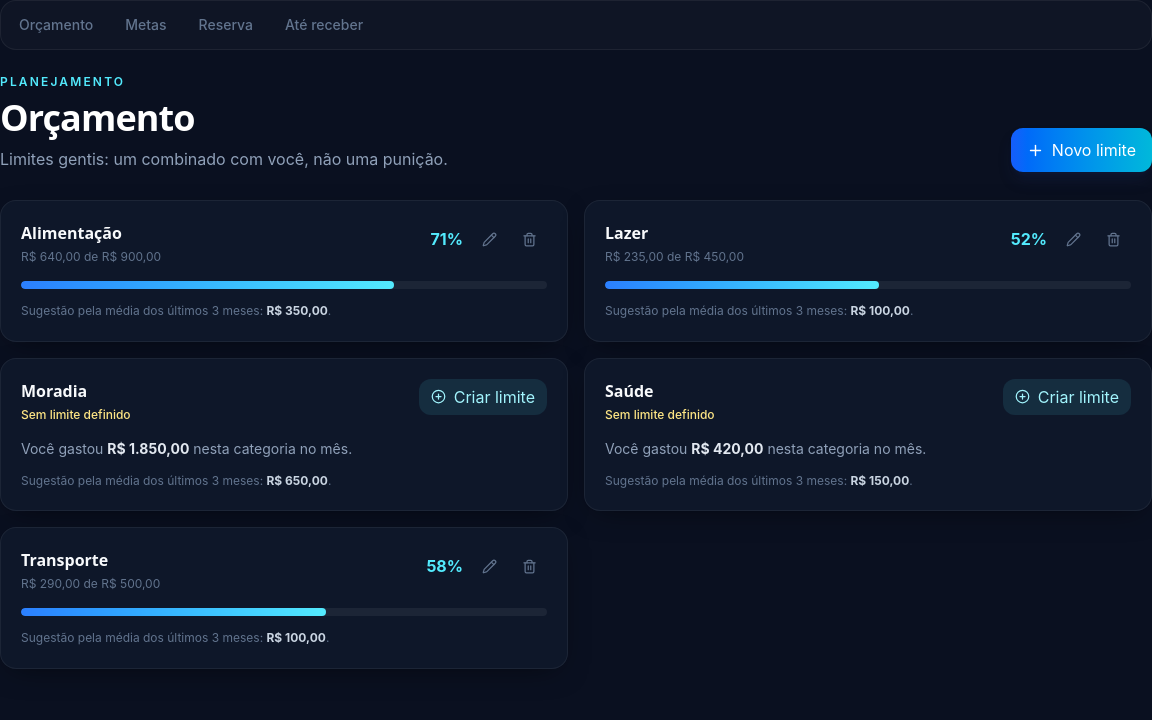
Test: edits and deletes an existing budget
Step 1. Click the button named "editar alimentação" → (489, 239), box [471,221,507,257]
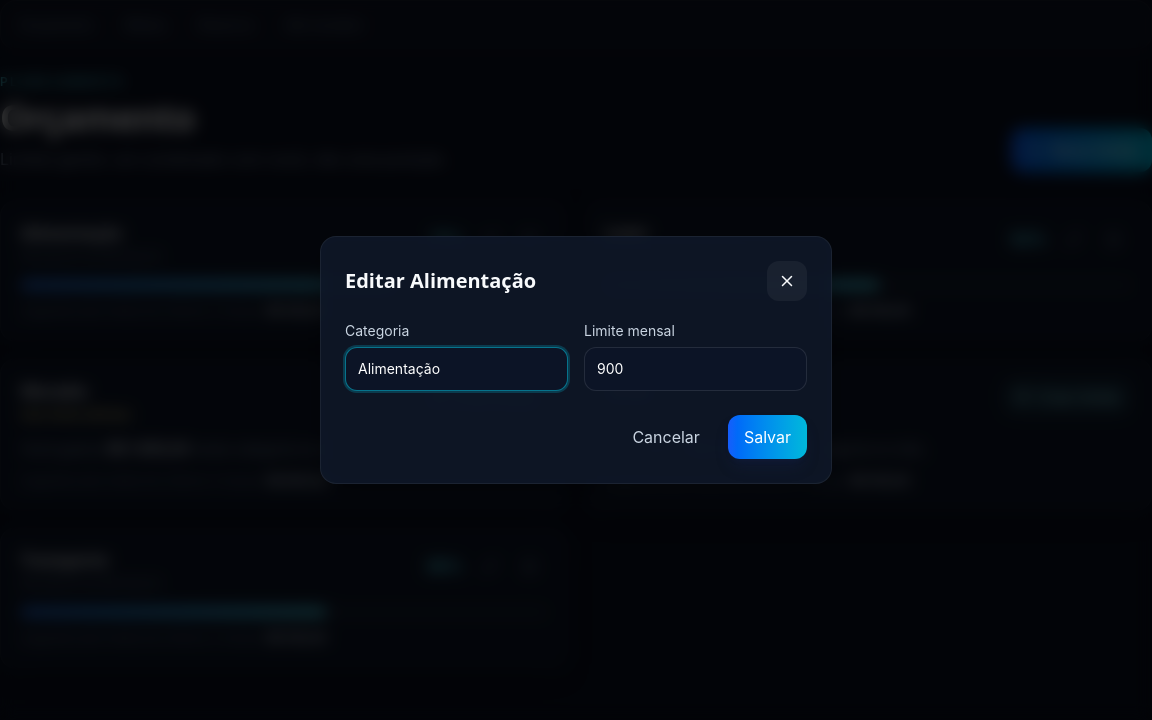
Step 2. Replace the text in the number field labelled "Limite mensal" with "1000" → (696, 369), box [584,347,807,391]
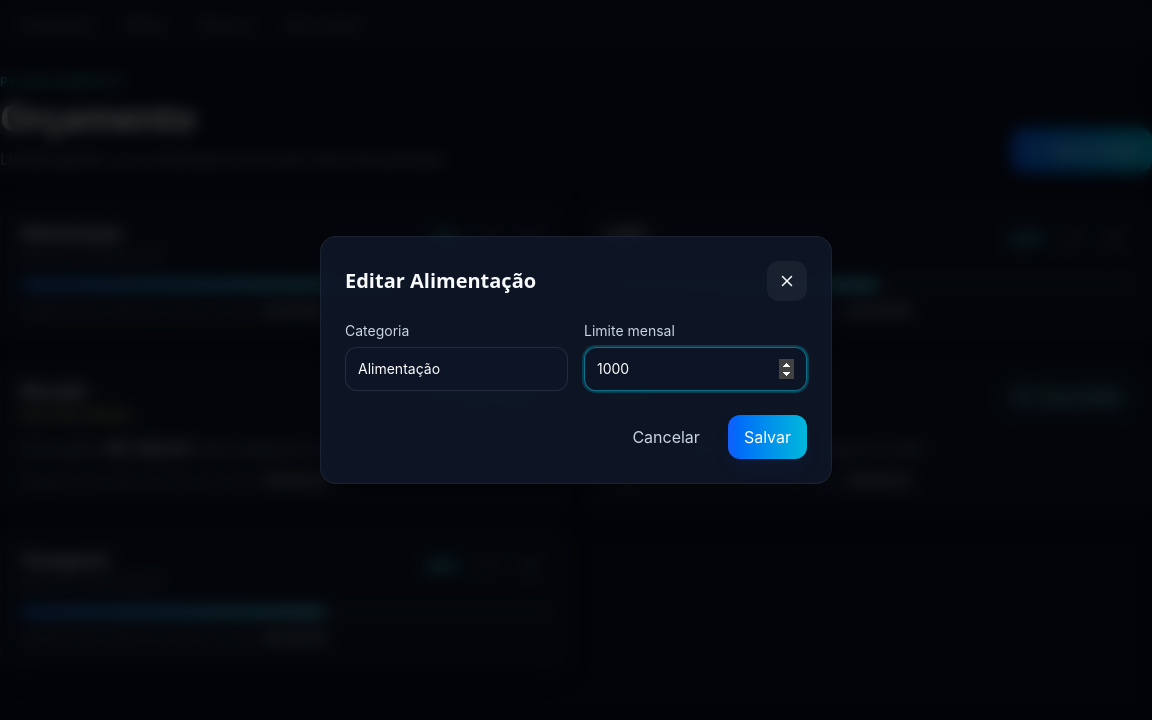
Step 3. Click the button "Salvar" → (767, 437), box [728,415,807,459]
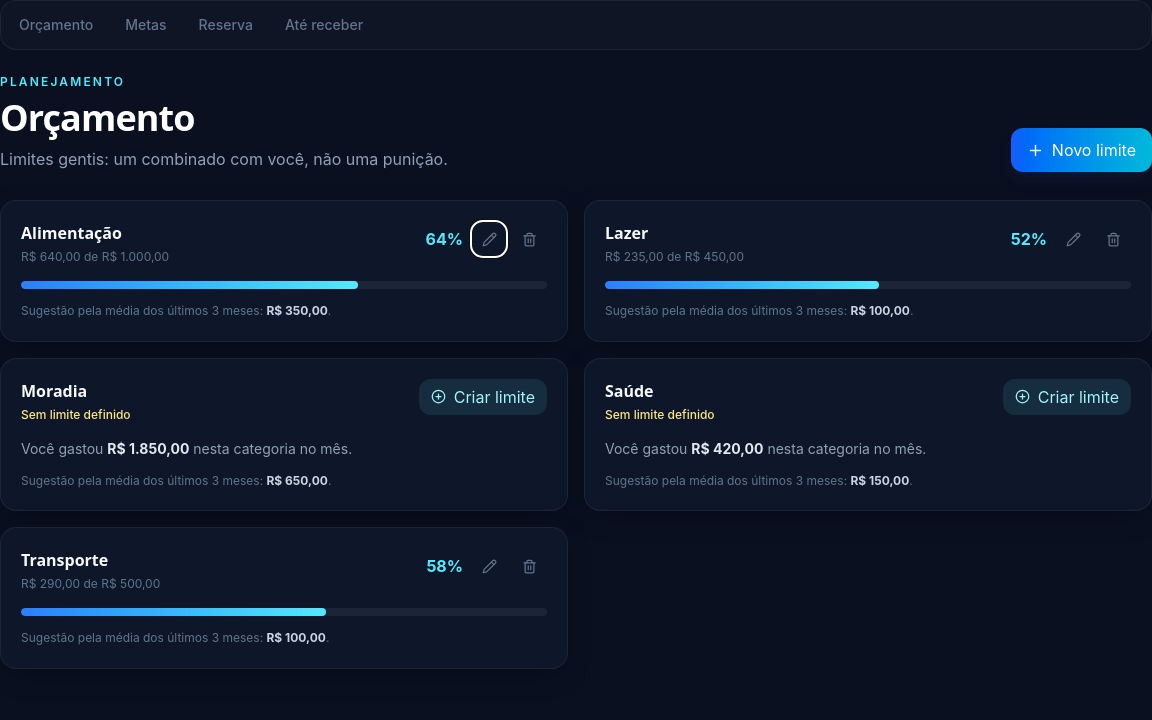
Result: the text "R$ 640,00 de R$ 1.000,00" is shown at [21,249,169,265]
Step 4. Click the button named "excluir alimentação" → (529, 239), box [511,221,547,257]
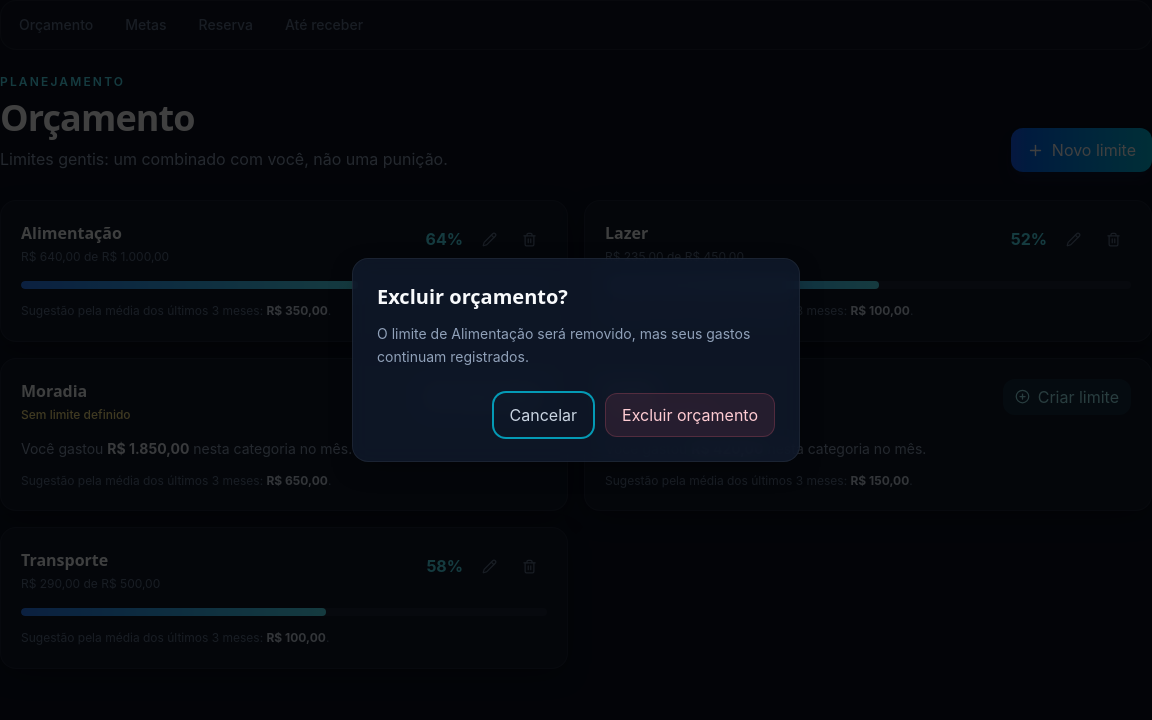
Result: the dialog "Excluir orçamento?" is shown at [352,258,800,462]
Step 5. Click the button "Excluir orçamento" → (690, 415), box [605,393,775,437]
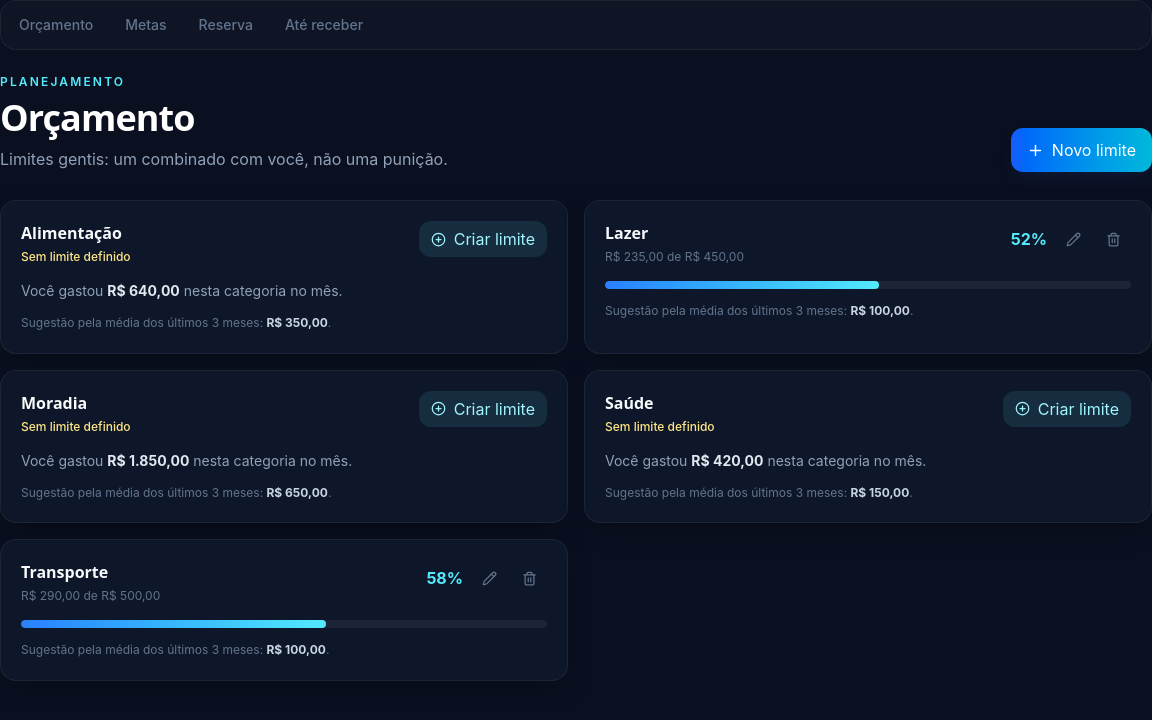
Result: the button with aria-label "criar limite para alimentação" is shown at [419,221,547,257]
